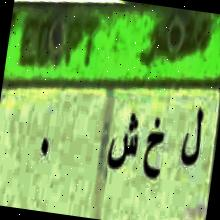0: (34, 119, 62, 169)
khaa: (138, 108, 172, 196)
laam: (174, 97, 208, 176)
sheen: (103, 110, 142, 179)
